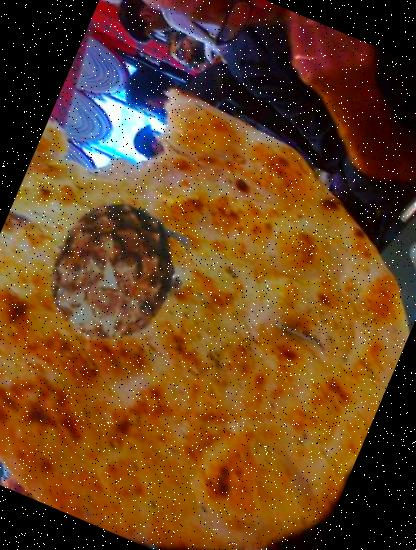Pineapple: (17, 176, 206, 366)
